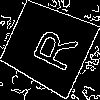R: (23, 21, 79, 75)
